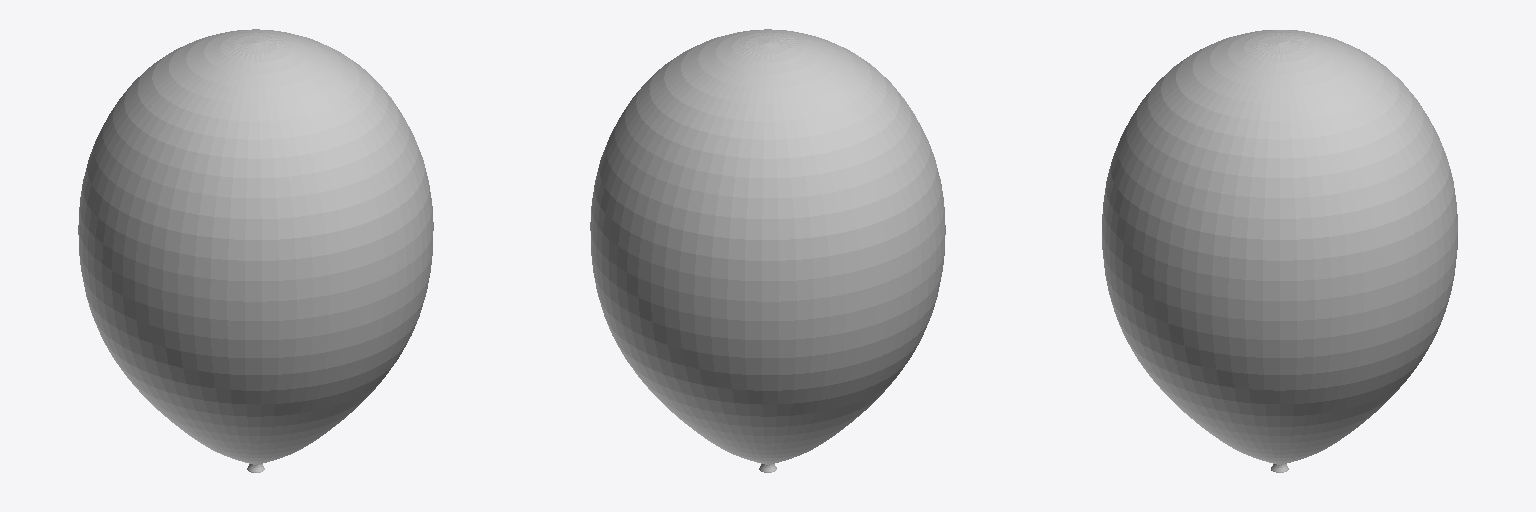
File: Balloon_Jon.obj
3 renders of one model, left to right at view 1: azimuth 30°, elevation 25°; view 2: azimuth 150°, elevation 25°; view 3: azimuth 270°, elevation 25°, orthographic.
Visible parts, largest first — view 1: Sphere; view 2: Sphere; view 3: Sphere.
Part boxes in pixels (left/top/right/bottom): Sphere: left=78, top=29, right=433, bottom=472; Sphere: left=590, top=29, right=945, bottom=472; Sphere: left=1102, top=30, right=1457, bottom=472.
Size of the model in its own units: 2.6 by 3.44 by 2.61.